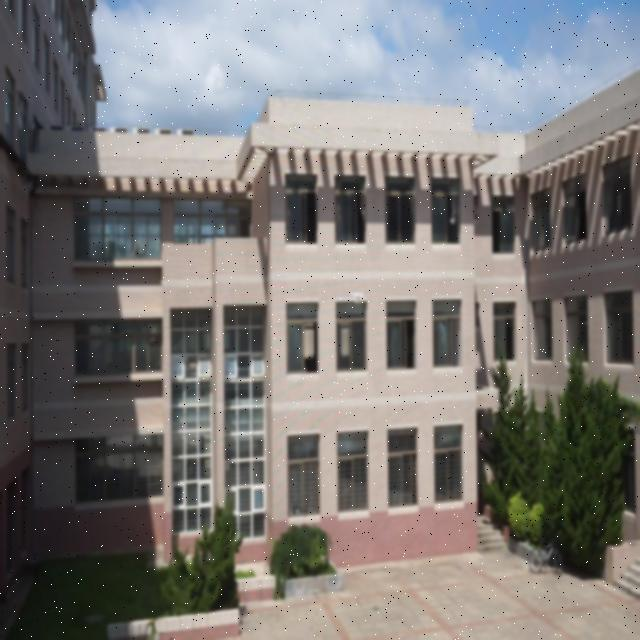UAV: (350, 292, 364, 303)
